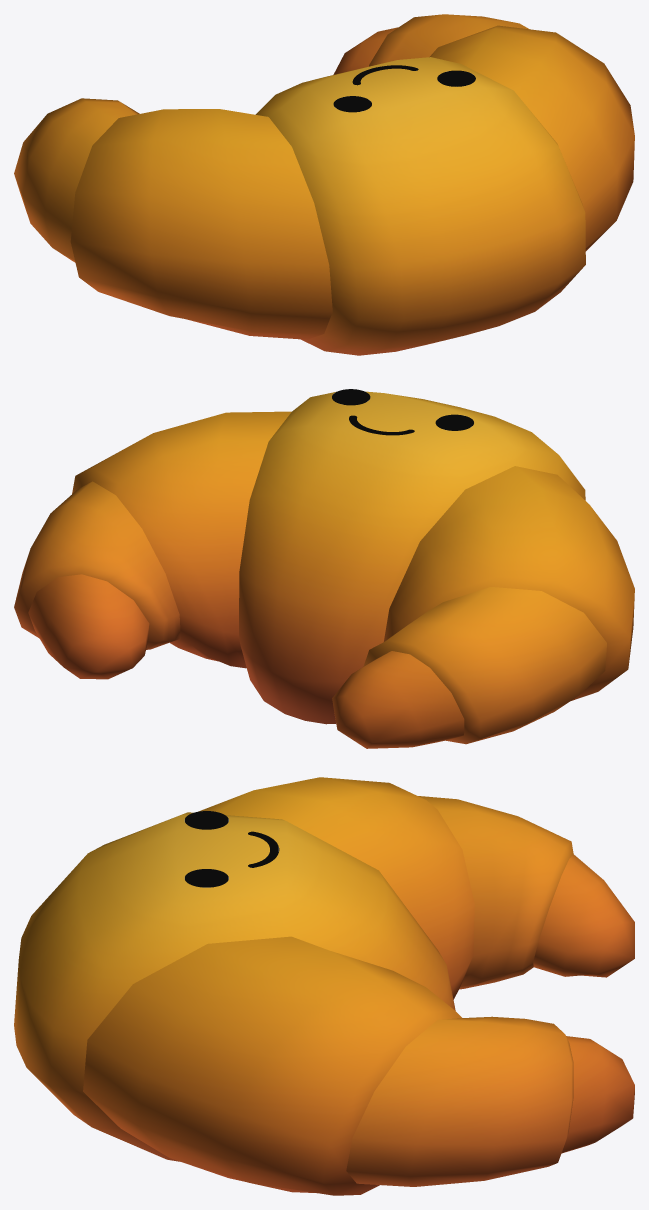
The model's file is croissant_smile.fbx.
The picture shows the model from 3 angles, top to bottom: view 1: azimuth 30°, elevation 25°; view 2: azimuth 150°, elevation 25°; view 3: azimuth 270°, elevation 25°; orthographic projection. The views are drawn at different scales.
Visible parts, largest first — view 1: croissant_smile; view 2: croissant_smile; view 3: croissant_smile.
Boxes of the visible parts, box(x1,y1,x2,y2) form: croissant_smile: box(14, 14, 634, 355); croissant_smile: box(14, 389, 634, 748); croissant_smile: box(14, 777, 634, 1195).
Bounding box in the file's own units: 133 × 58.52 × 111.
2 materials, 2 textured.
